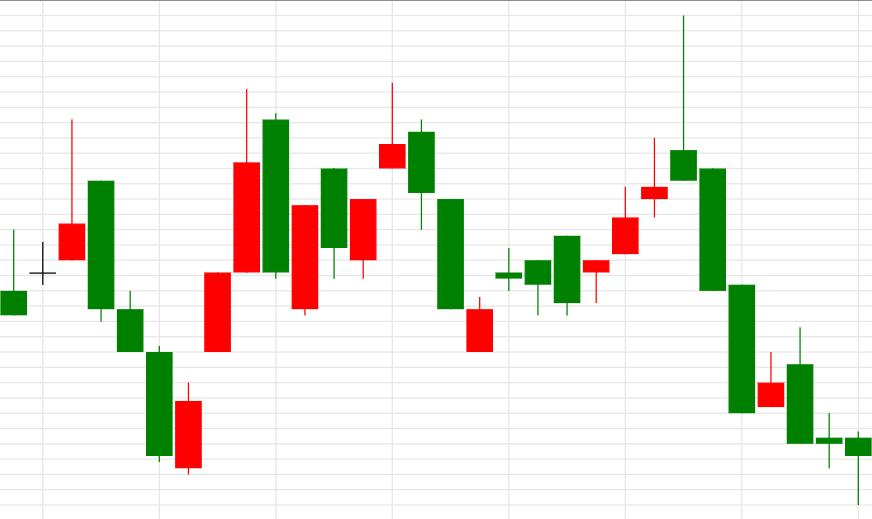shooting_star_fall: (466, 16, 698, 352)
three_black_crows_fall: (1, 118, 173, 461)
